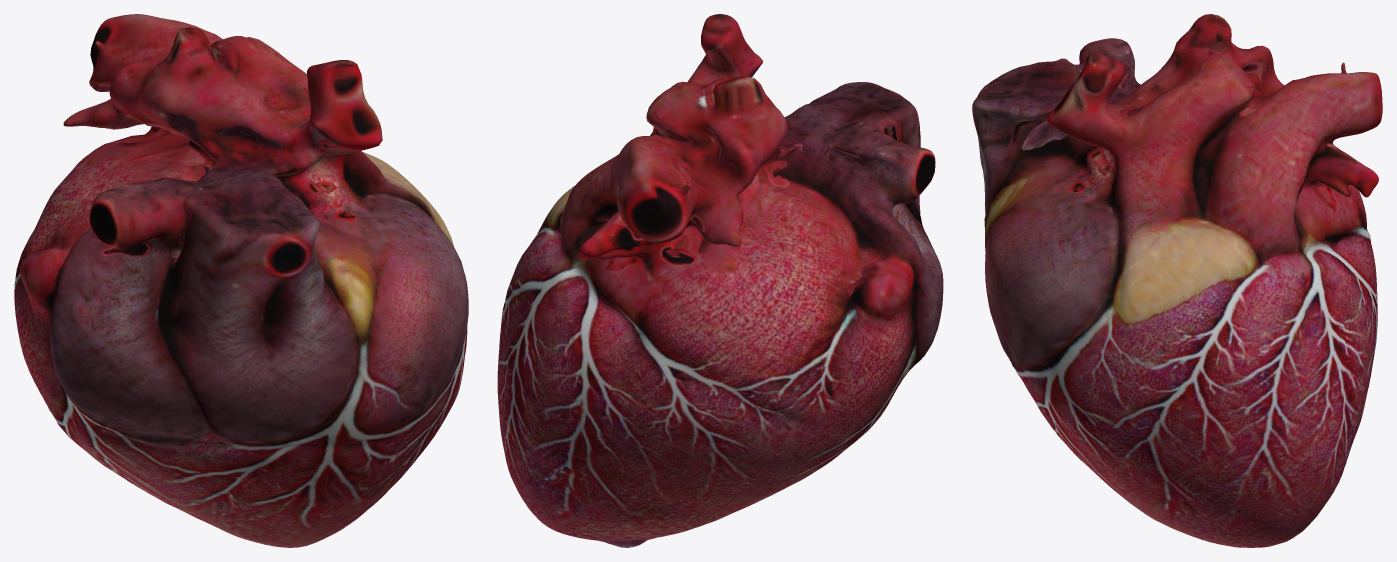
The model's file is human_heart.glb.
3 views of the same model, side by side, from view 1: azimuth 30°, elevation 25°; view 2: azimuth 150°, elevation 25°; view 3: azimuth 270°, elevation 25° (orthographic). The views are drawn at different scales.
Parts seen in each view (by area): view 1: mesh_base_material_0; view 2: mesh_base_material_0; view 3: mesh_base_material_0.
Boxes of the visible parts, left/top/right/bottom form: mesh_base_material_0: left=14, top=14, right=468, bottom=547; mesh_base_material_0: left=497, top=14, right=943, bottom=547; mesh_base_material_0: left=972, top=14, right=1382, bottom=547.
Size of the model in its own units: 0.8108 by 0.9967 by 0.7756.
Materials: 1 (1 with a texture image).
